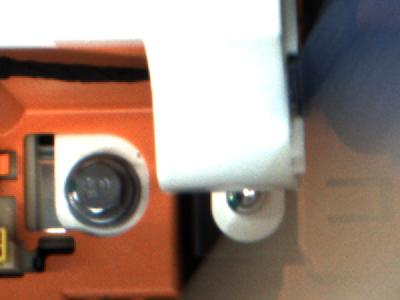nut_b: (63, 151, 146, 234)
